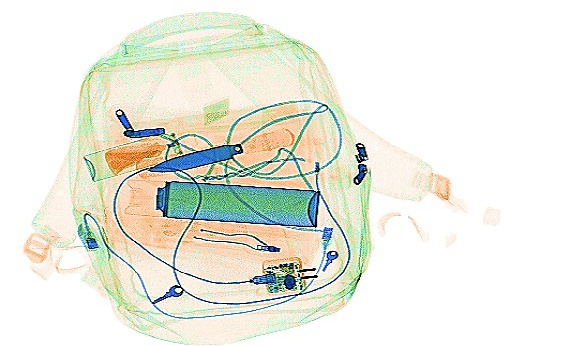knife: (146, 125, 298, 173)
pressure: (121, 172, 322, 223), (81, 126, 201, 181)
